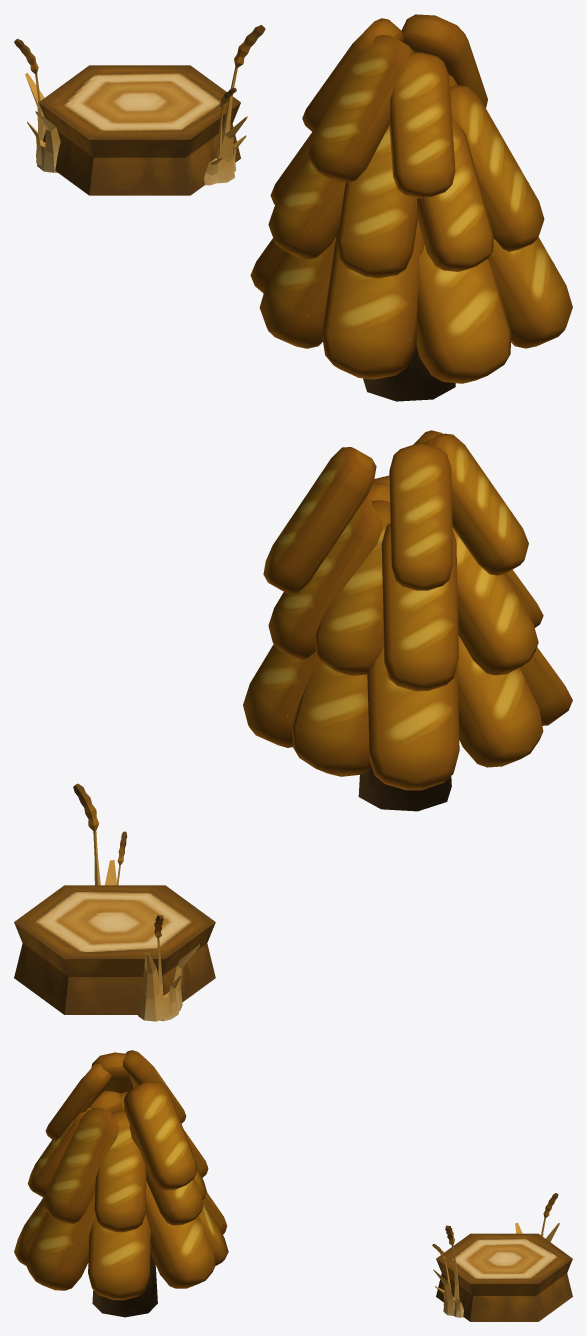
Rendered from rework_tree.fbx.
3 renders of one model, top to bottom at view 1: azimuth 30°, elevation 25°; view 2: azimuth 150°, elevation 25°; view 3: azimuth 270°, elevation 25°, orthographic. The views are drawn at different scales.
Parts seen in each view (by area): view 1: log, Cube.007, Cube, Cube.017, Cube.016, Cube.022, Cube.013, Cube.024, Cube.004, Cube.002, Cube.021, Cube.014 (+6 smaller); view 2: log, Cube.006, Cube.011, Cube.010, Cube.014, Cube.002, Cube.001, Cube.021, Cube.017, Cube.020, Cube.008, Cube.005 (+5 smaller); view 3: log, Cube.014, Cube.013, Cube.012, Cube.003, Cube.005, Cube.004, Cube.016, Cube.020, Cube.024, Cylinder, Cube.011 (+7 smaller).
Boxes of the visible parts, left/top/right/bottom form: log: left=38, top=65, right=240, bottom=195; Cube.007: left=322, top=220, right=424, bottom=379; Cube: left=416, top=245, right=511, bottom=383; Cube.017: left=308, top=35, right=414, bottom=182; Cube.016: left=389, top=52, right=455, bottom=198; Cube.022: left=337, top=126, right=417, bottom=278; Cube.013: left=449, top=85, right=544, bottom=251; Cube.024: left=417, top=119, right=493, bottom=271; Cube.004: left=488, top=237, right=572, bottom=348; Cube.002: left=259, top=237, right=335, bottom=348; Cube.021: left=268, top=154, right=345, bottom=259; Cube.014: left=401, top=14, right=487, bottom=107; log: left=14, top=885, right=215, bottom=1014; Cube.006: left=367, top=647, right=459, bottom=790; Cube.011: left=389, top=444, right=453, bottom=590; Cube.010: left=381, top=523, right=458, bottom=691; Cube.014: left=263, top=447, right=376, bottom=593; Cube.002: left=457, top=636, right=543, bottom=767; Cube.001: left=292, top=662, right=372, bottom=776; Cube.021: left=452, top=528, right=538, bottom=675; Cube.017: left=423, top=433, right=528, bottom=575; Cube.020: left=268, top=498, right=382, bottom=659; Cube.008: left=315, top=500, right=390, bottom=675; Cube.005: left=243, top=644, right=321, bottom=747; log: left=436, top=1233, right=572, bottom=1321; Cube.014: left=124, top=1082, right=196, bottom=1190; Cube.013: left=44, top=1108, right=119, bottom=1223; Cube.012: left=94, top=1111, right=146, bottom=1232; Cube.003: left=88, top=1213, right=150, bottom=1300; Cube.005: left=145, top=1181, right=215, bottom=1288; Cube.004: left=26, top=1192, right=95, bottom=1290; Cube.016: left=45, top=1063, right=111, bottom=1141; Cube.020: left=129, top=1125, right=203, bottom=1225; Cube.024: left=27, top=1107, right=90, bottom=1197; Cylinder: left=92, top=1254, right=157, bottom=1317; Cube.011: left=123, top=1050, right=186, bottom=1123.
Bounding box in the file's own units: 287 × 364 × 757.
